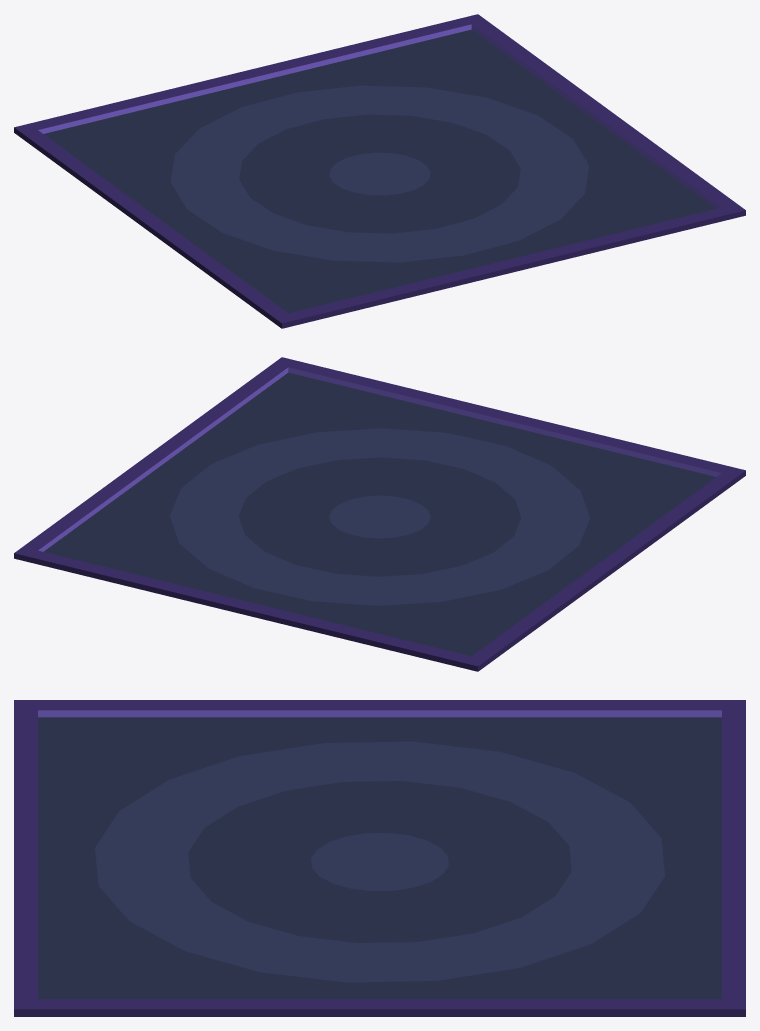
Rendered from Night_Plane.fbx.
3 views of the same model, one above another, from view 1: azimuth 30°, elevation 25°; view 2: azimuth 150°, elevation 25°; view 3: azimuth 270°, elevation 25° (orthographic). The views are drawn at different scales.
Visible parts, largest first — view 1: Night_Plane; view 2: Night_Plane; view 3: Night_Plane.
Boxes of the visible parts, left/top/right/bottom form: Night_Plane: left=14, top=14, right=745, bottom=328; Night_Plane: left=14, top=357, right=745, bottom=671; Night_Plane: left=14, top=700, right=745, bottom=1016.
Size of the model in its own units: 63.79 by 63.79 by 0.7101.
